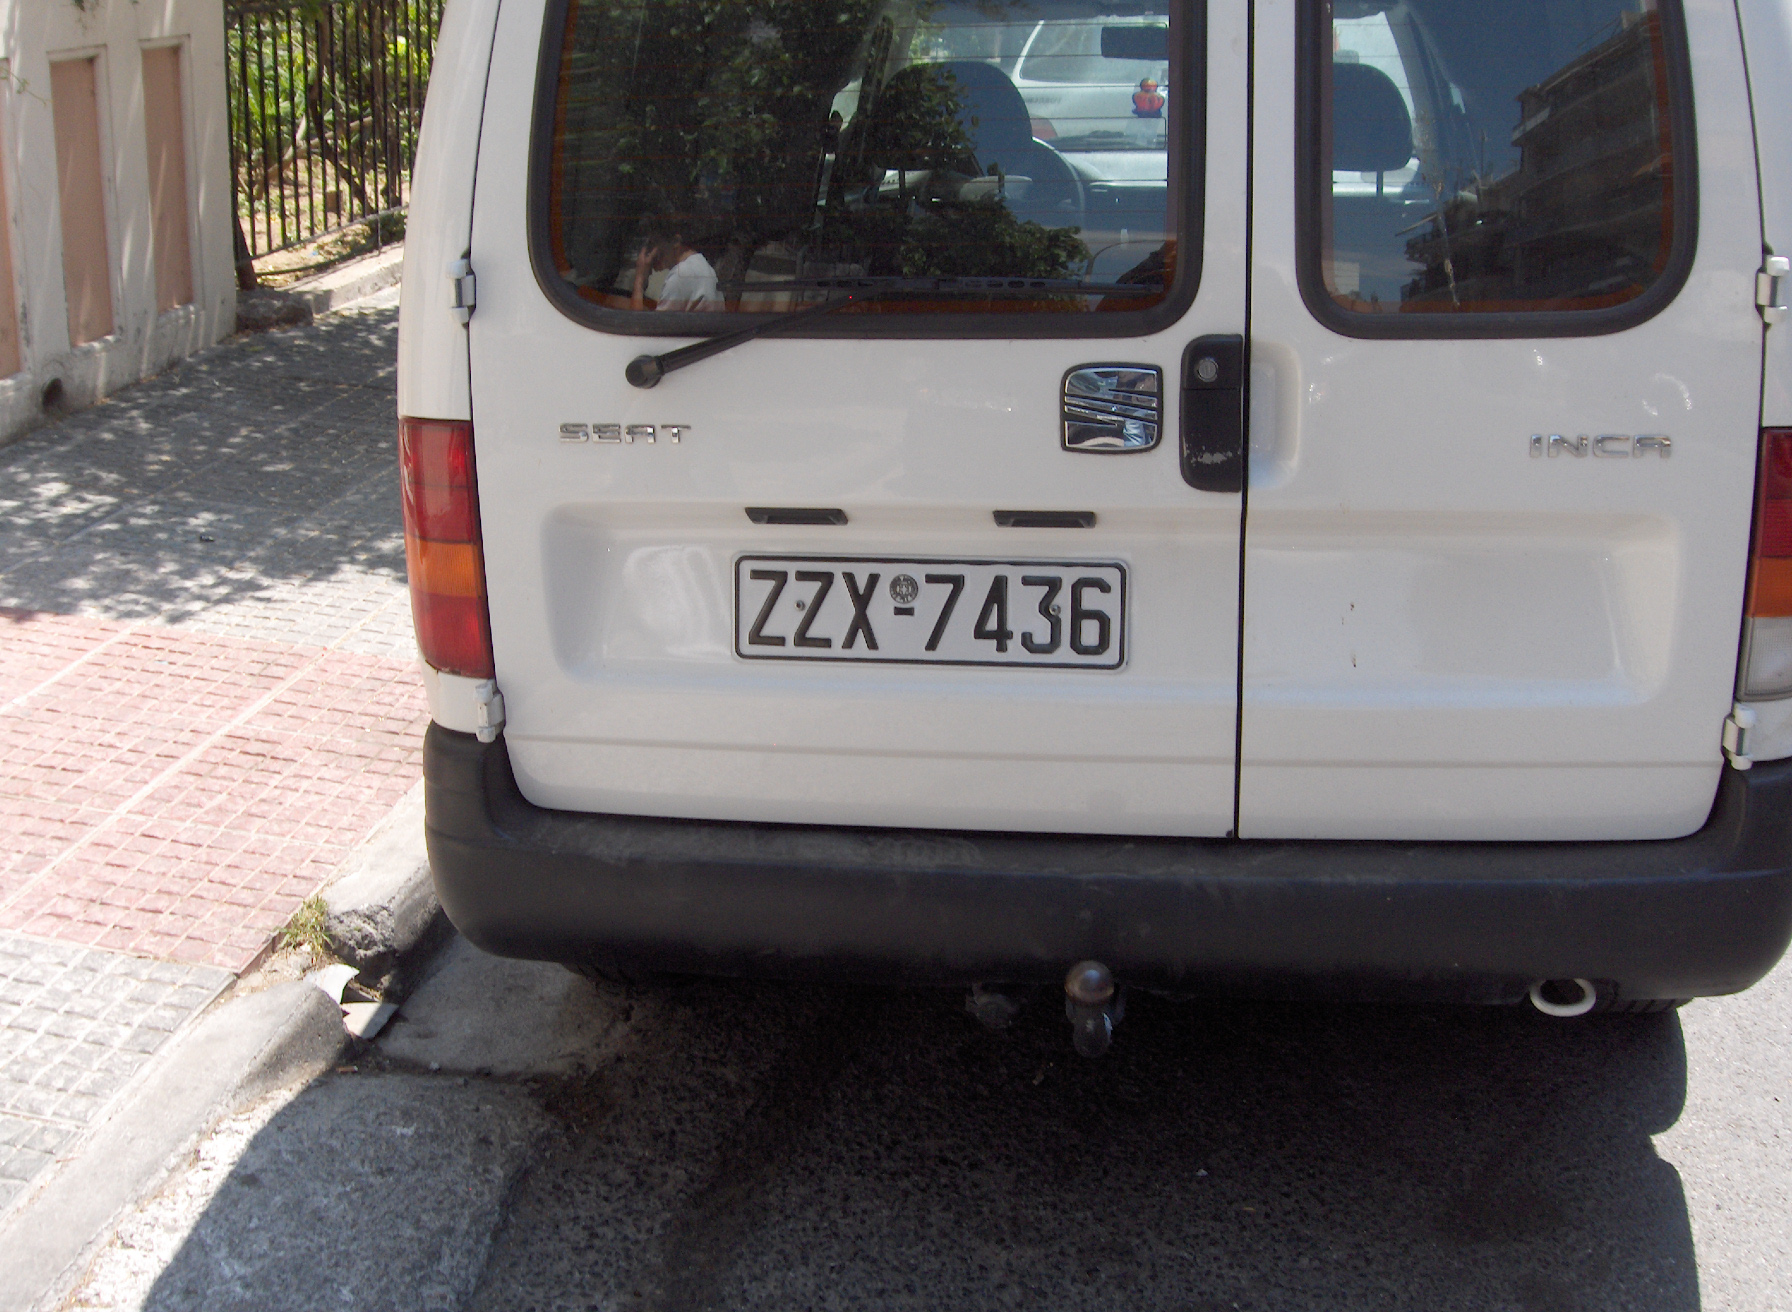licenseplate: (730, 551, 1129, 674)
